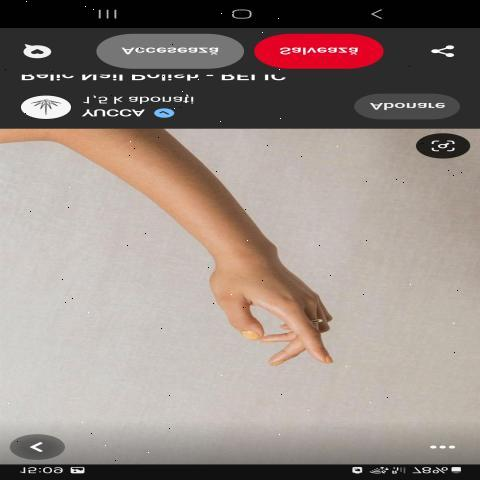Hands: (184, 242, 390, 404)
